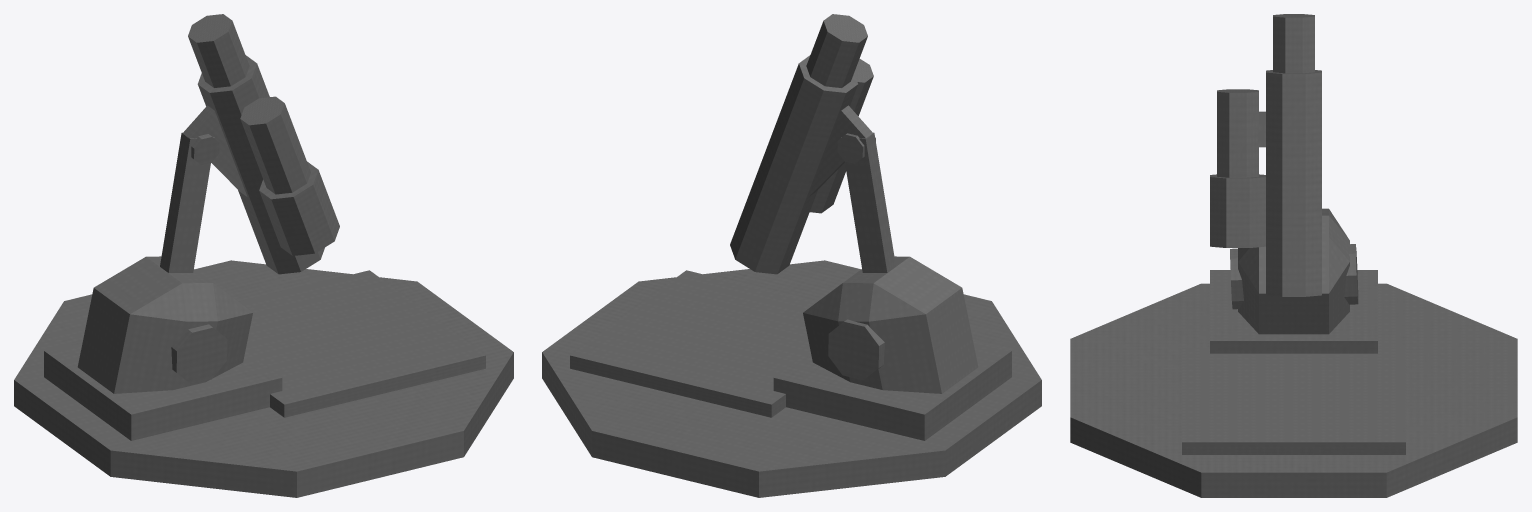
Rendered from optic_microscope.obj.
3 views of the same model, side by side, from view 1: azimuth 30°, elevation 25°; view 2: azimuth 150°, elevation 25°; view 3: azimuth 270°, elevation 25° (orthographic). The views are drawn at different scales.
Visible parts, largest first — view 1: cylinder; view 2: cylinder; view 3: cylinder.
Boxes of the visible parts, x1,y1,x2,y2 form: cylinder: [14, 14, 513, 497]; cylinder: [542, 14, 1041, 497]; cylinder: [1070, 14, 1517, 497].
Bounding box in the file's own units: 1 × 0.9095 × 1.
Materials: 1 (1 with a texture image).
